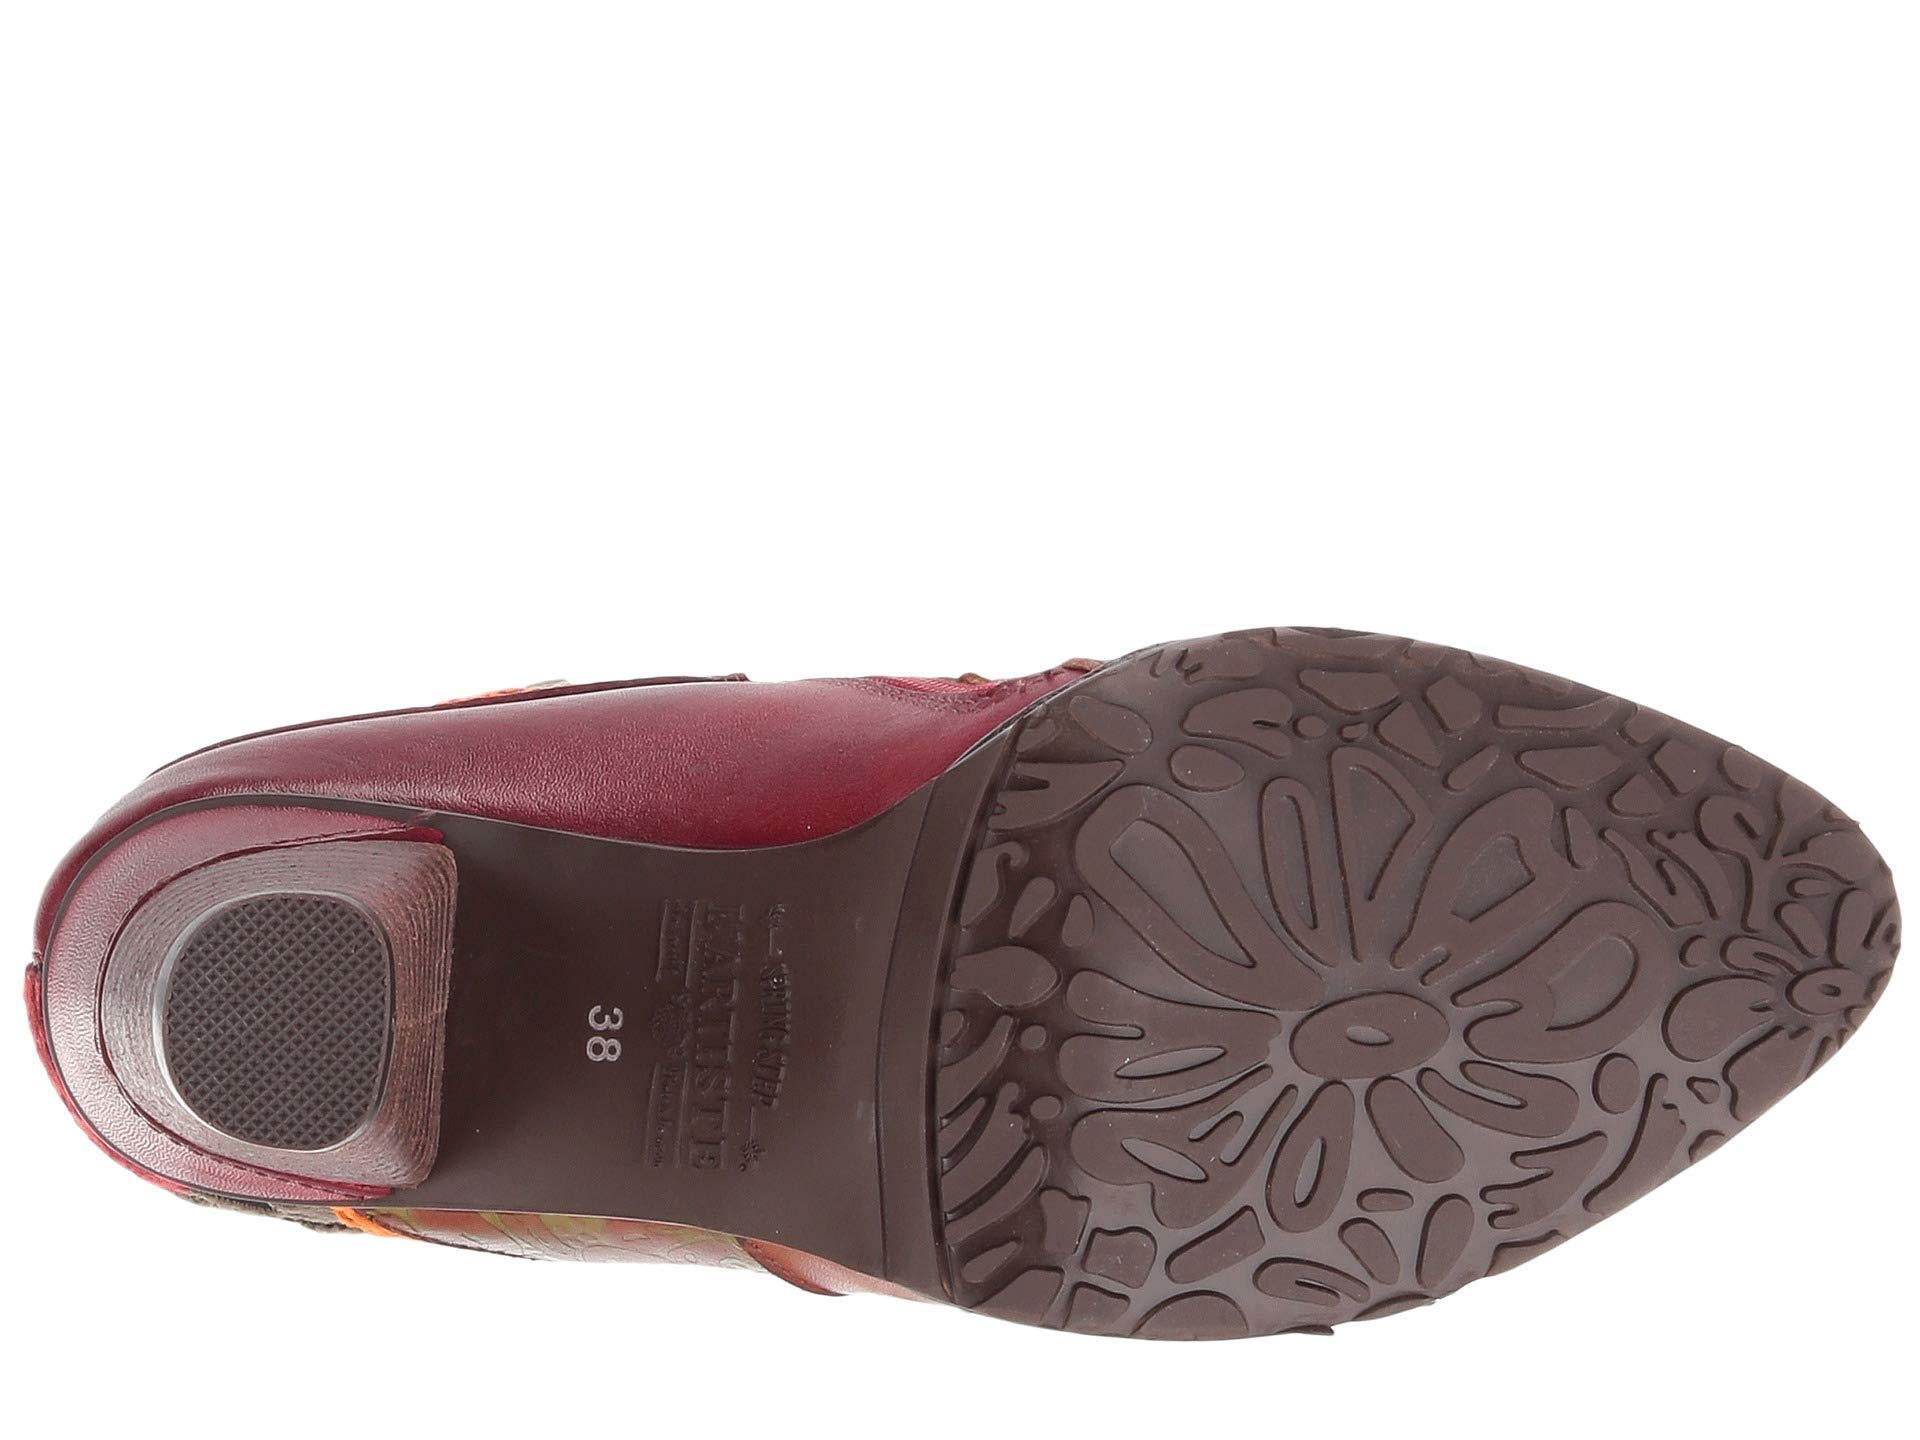circle: (1104, 728, 1568, 1201), (171, 886, 395, 1165)
line: (544, 844, 831, 1201)
other: (1104, 728, 1568, 1201)
quad: (1104, 728, 1568, 1201), (171, 886, 395, 1165)
text: (544, 844, 831, 1201)
triangle: (1104, 728, 1568, 1201)
